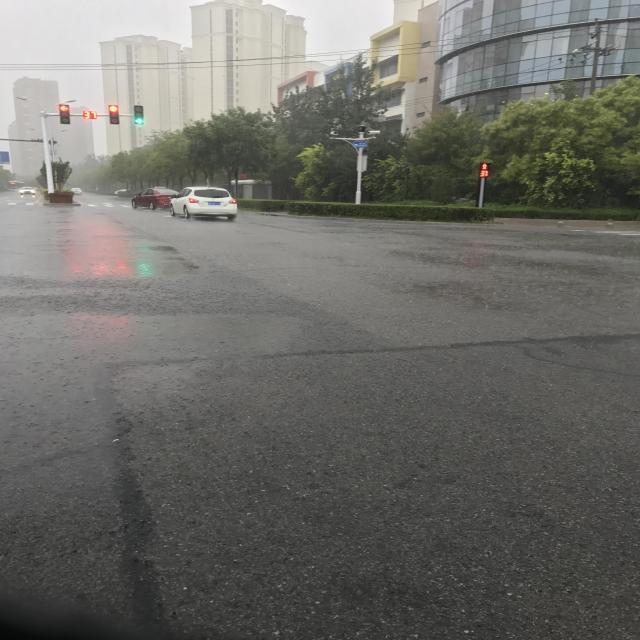car: (186, 402, 222, 469), (186, 458, 211, 508), (186, 602, 197, 622), (187, 556, 196, 571)
